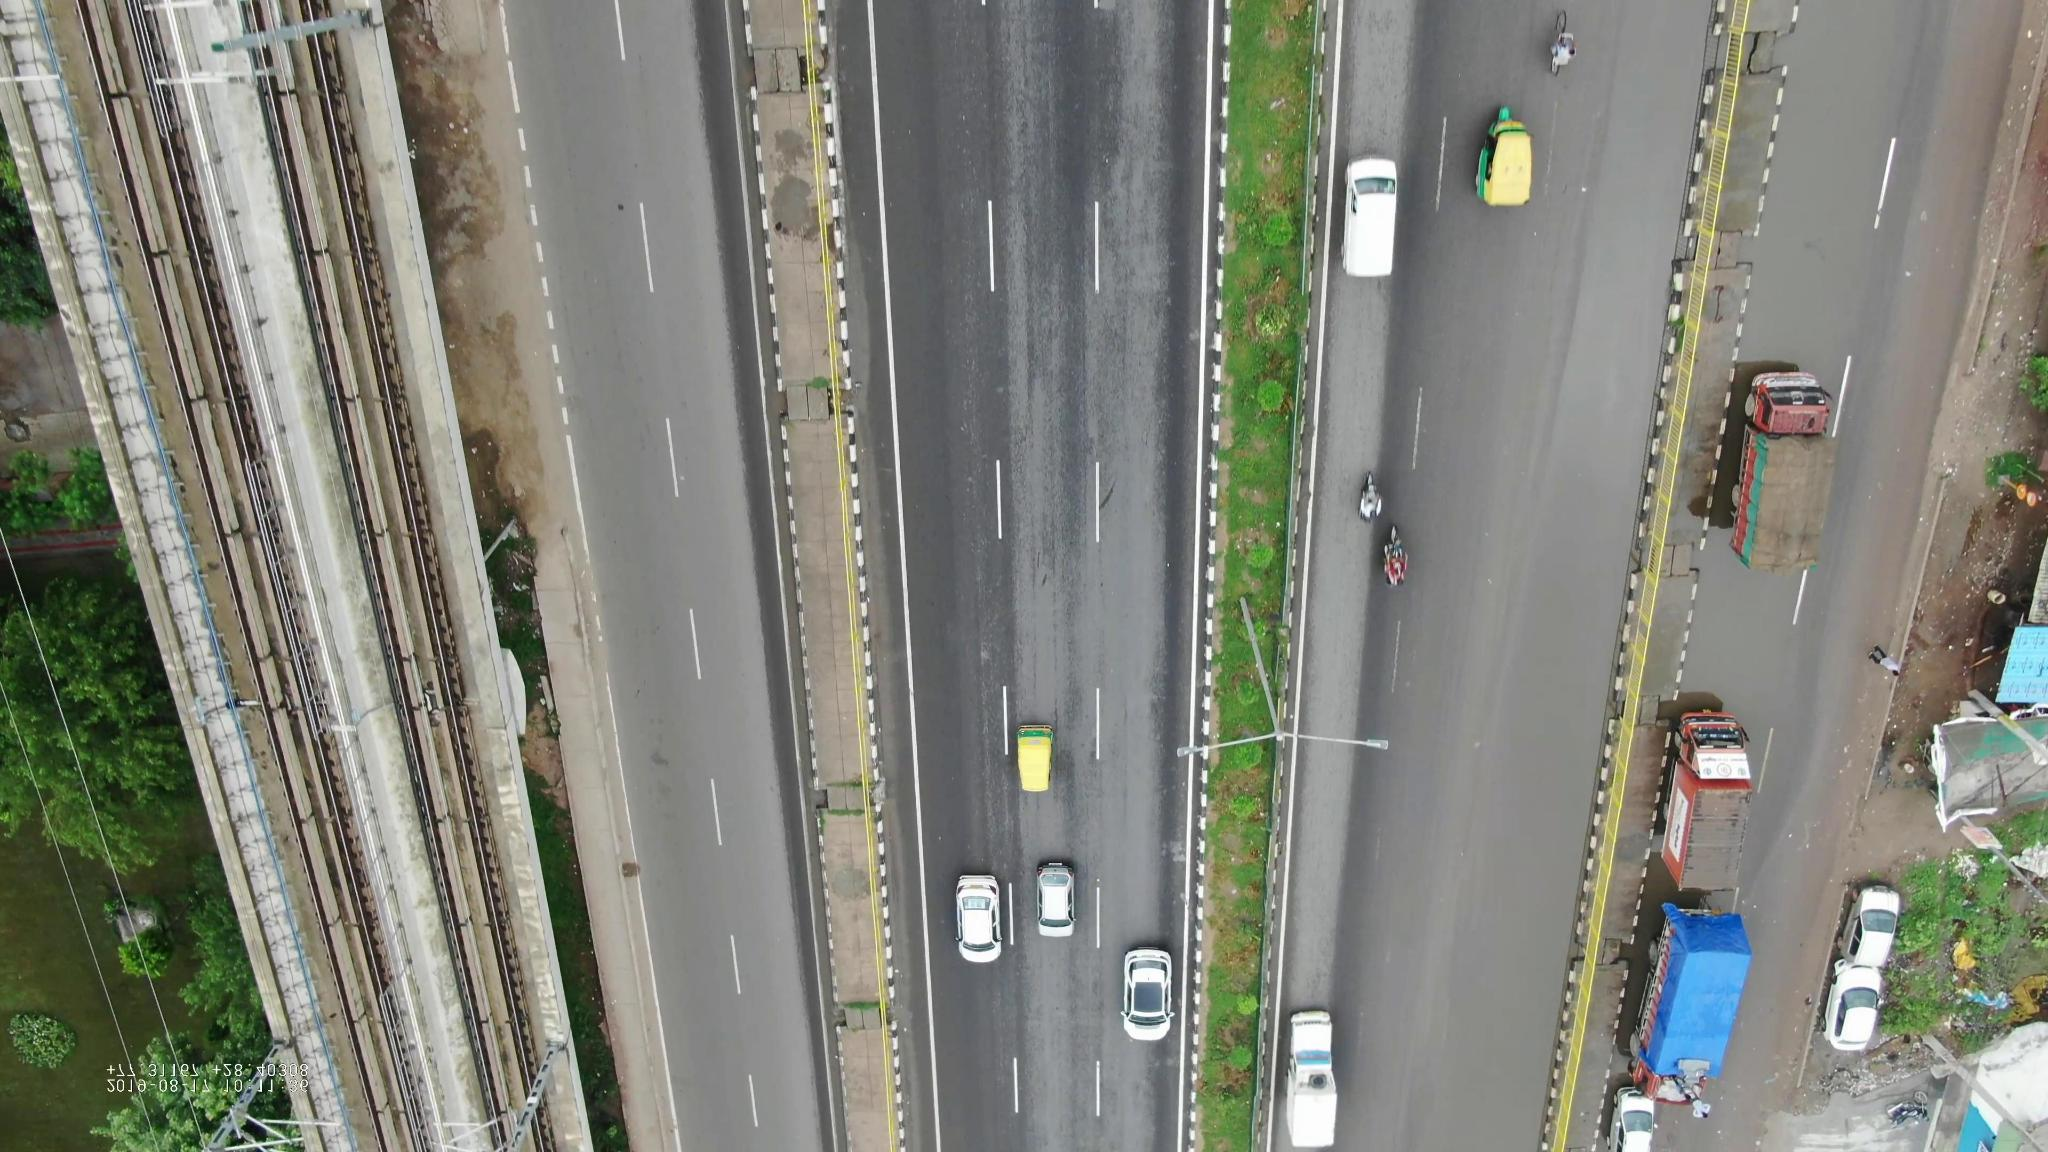Waterlogging: (1460, 459, 1620, 838), (1747, 52, 1907, 318), (1513, 179, 1674, 412), (1674, 574, 1784, 703)
